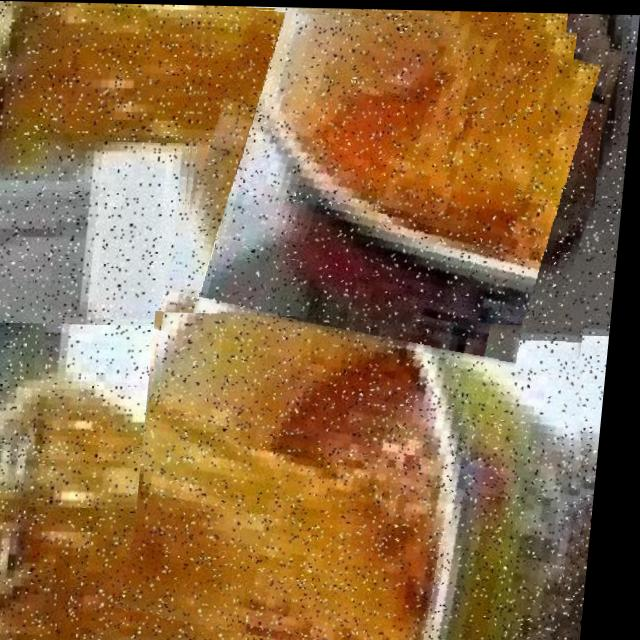Miscellaneous: (171, 4, 613, 382), (136, 309, 616, 640)
